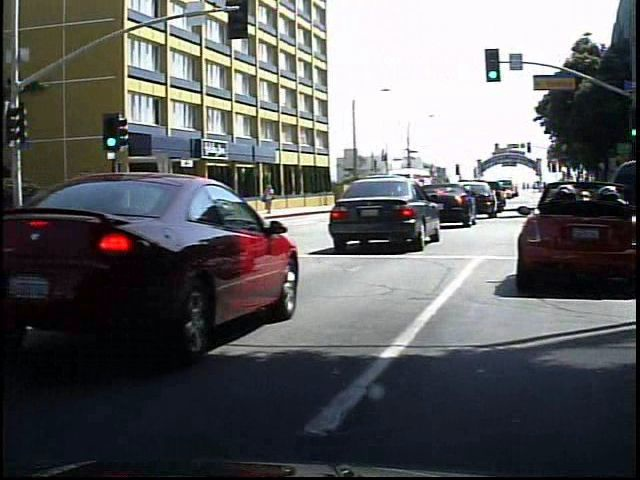person: (257, 179, 275, 218)
